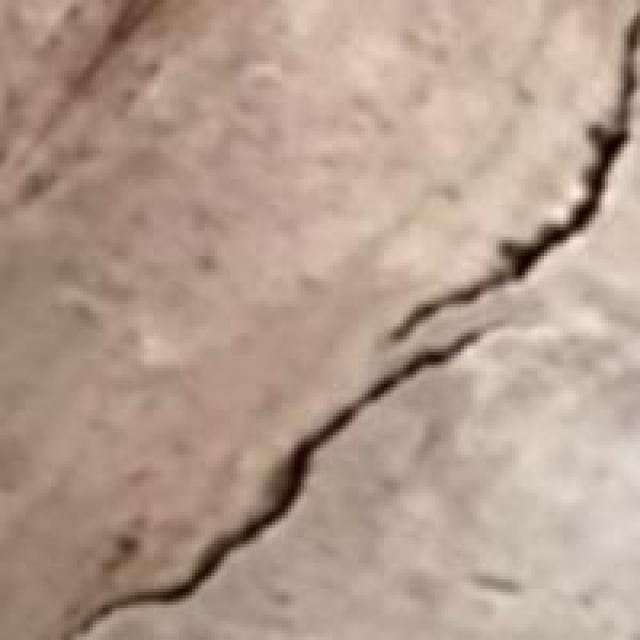crack: (80, 32, 637, 618)
